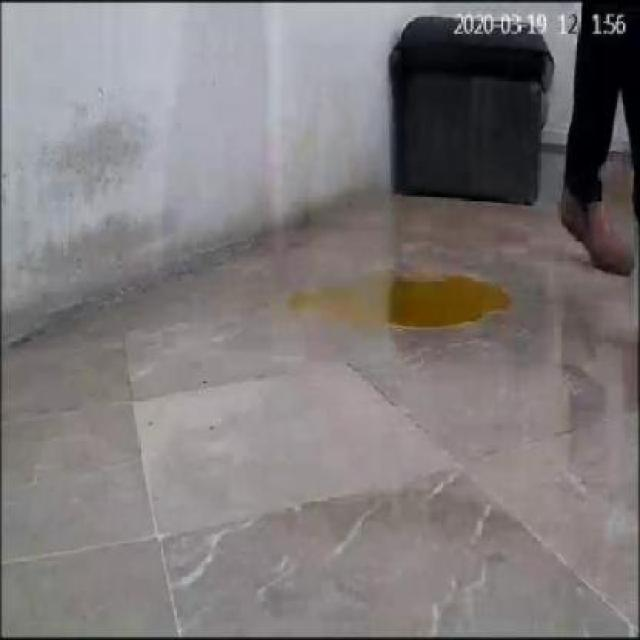spillage: (300, 273, 512, 331)
